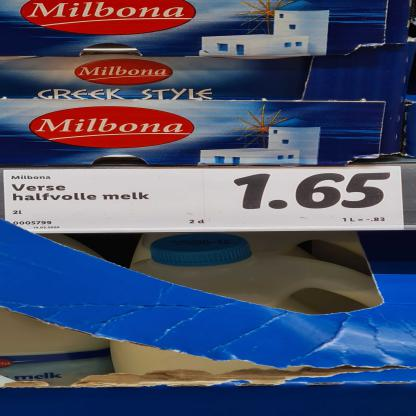prtg: (4, 167, 405, 234)
